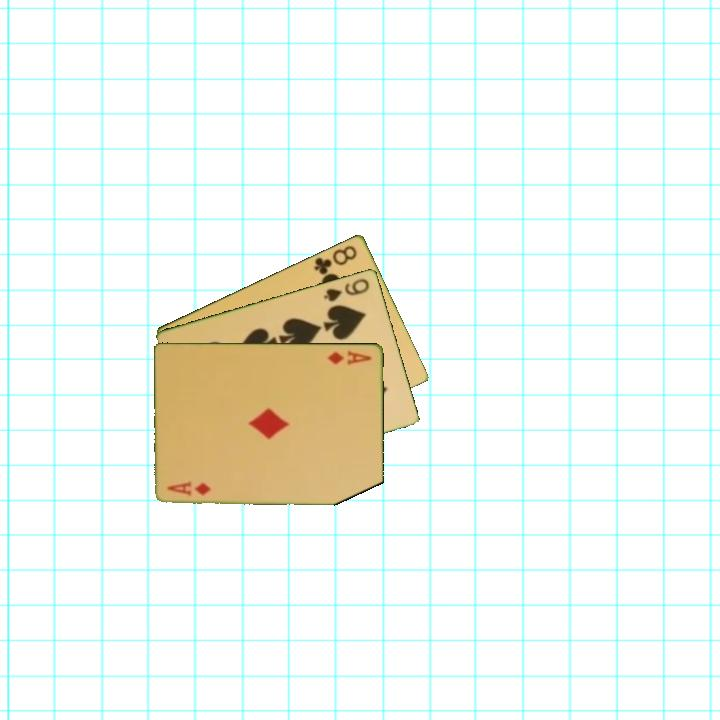8c: (311, 241, 360, 279)
9s: (320, 275, 372, 304)
Ad: (324, 347, 375, 368), (164, 478, 215, 499)
